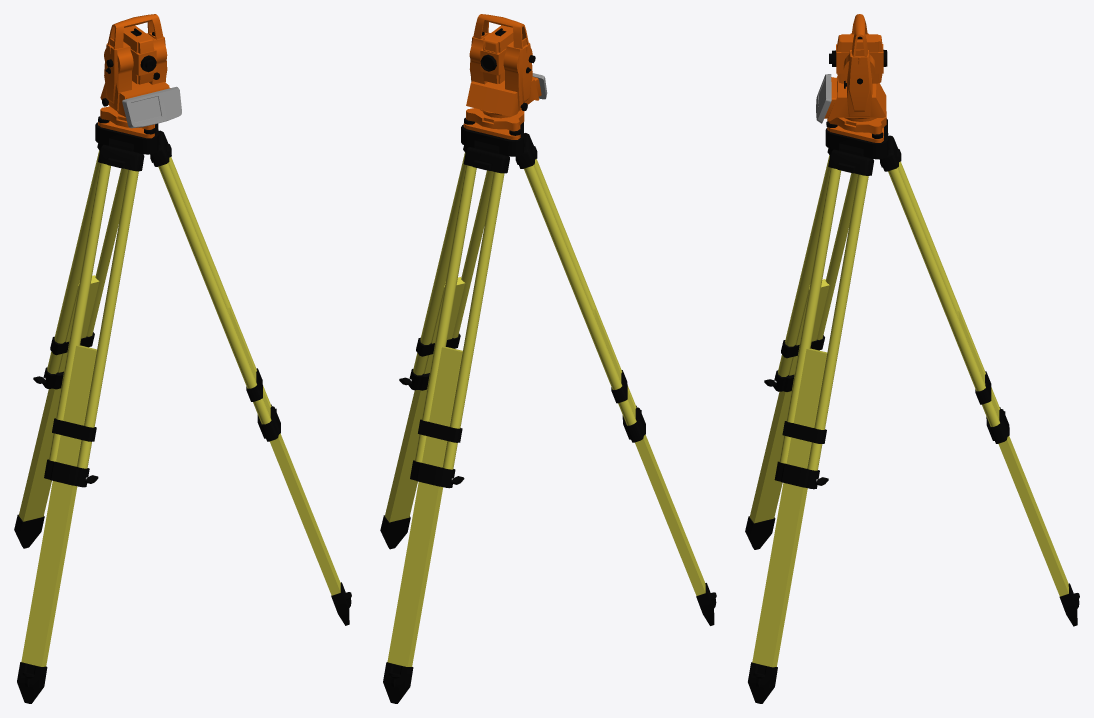
File: 经纬仪.fbx
3 views of the same model, side by side, from view 1: azimuth 30°, elevation 25°; view 2: azimuth 150°, elevation 25°; view 3: azimuth 270°, elevation 25° (orthographic).
Parts seen in each view (by area): view 1: jingweiyi; view 2: jingweiyi; view 3: jingweiyi.
Part boxes in pixels (x1,y1,x2,y2): jingweiyi: [14, 14, 351, 703]; jingweiyi: [380, 14, 716, 703]; jingweiyi: [745, 14, 1079, 703].
Bounding box in the file's own units: 92.61 × 162 × 81.33.
